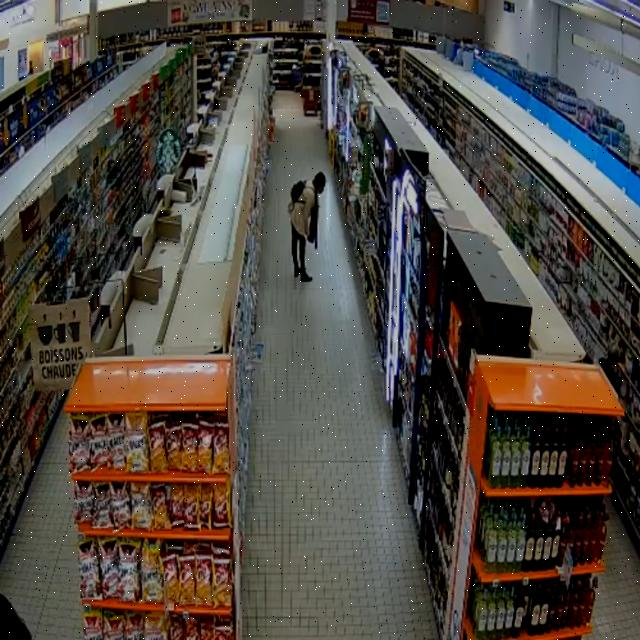bags: (291, 181, 305, 203)
person: (289, 172, 326, 282)
